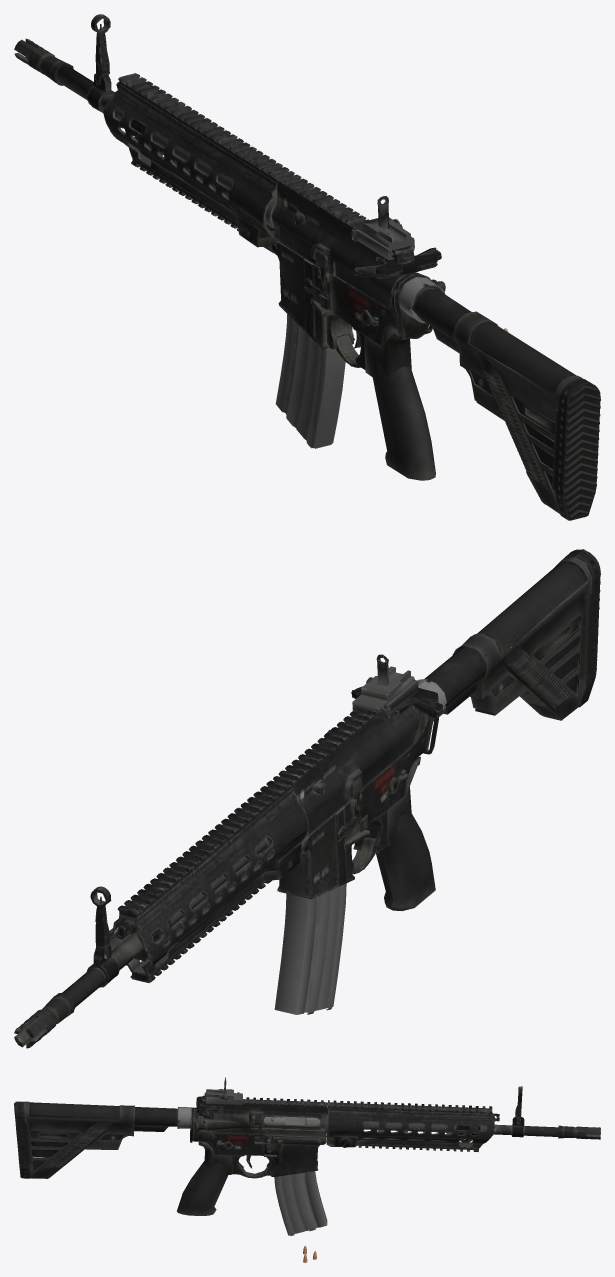
The picture shows the model from 3 angles, top to bottom: view 1: azimuth 30°, elevation 25°; view 2: azimuth 150°, elevation 25°; view 3: azimuth 270°, elevation 25°; orthographic projection. The views are drawn at different scales.
Parts seen in each view (by area): view 1: body, mag; view 2: body, mag; view 3: body, mag.
Part boxes in pixels (x1,y1,x2,y2): body: (14, 14, 600, 520); mag: (275, 268, 507, 448); body: (14, 549, 600, 1048); mag: (95, 837, 354, 1014); body: (14, 1077, 600, 1215); mag: (266, 1157, 327, 1262).
Bounding box in the file's own units: 0.2329 × 0.2697 × 0.915.
Materials: 2 (2 with a texture image).
